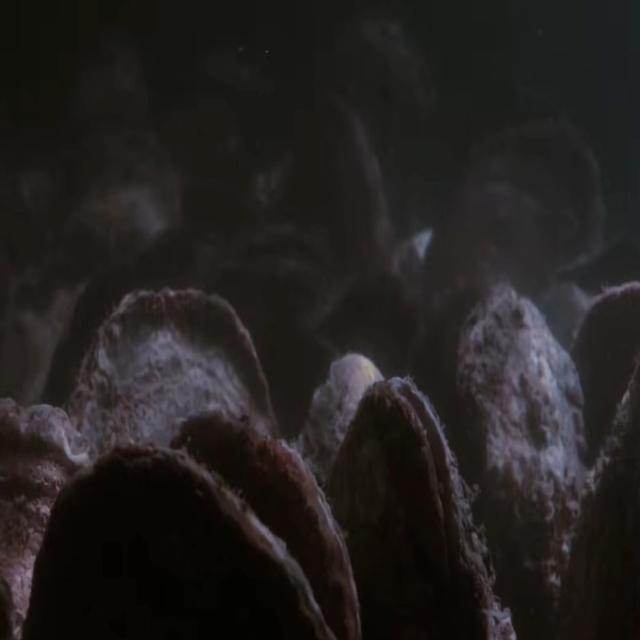Oyster-Closed: (25, 445, 337, 640), (167, 406, 360, 640), (0, 394, 97, 640)
Oyster-Indeterminate: (64, 286, 279, 640), (452, 281, 592, 640), (417, 117, 603, 328), (293, 354, 384, 640), (293, 94, 402, 288), (570, 281, 640, 503), (58, 146, 180, 270)
Oyster-Open: (325, 375, 516, 640), (213, 223, 344, 341)
